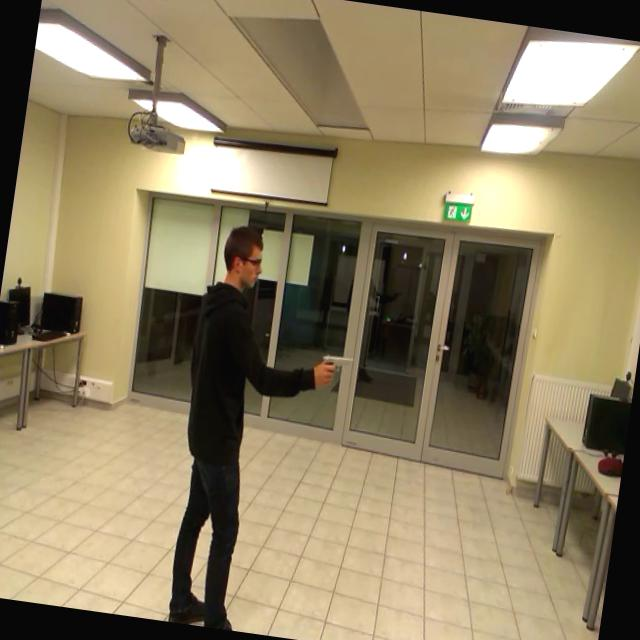handgun: (318, 345, 358, 387)
